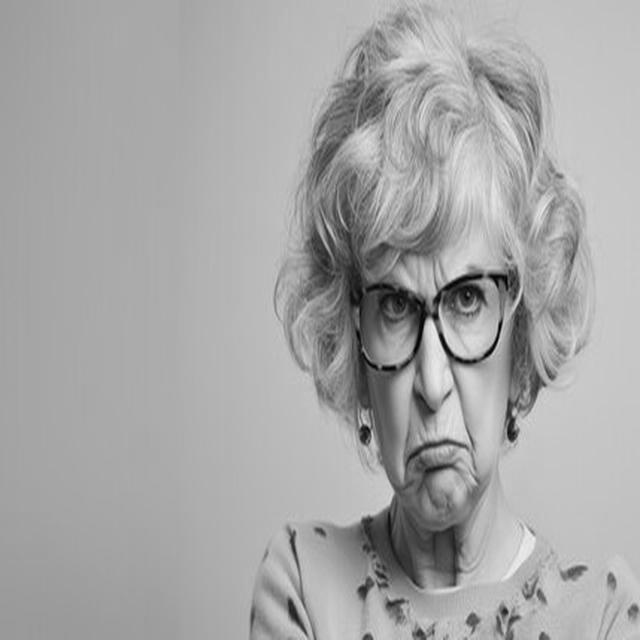Angry: (359, 184, 513, 526)
